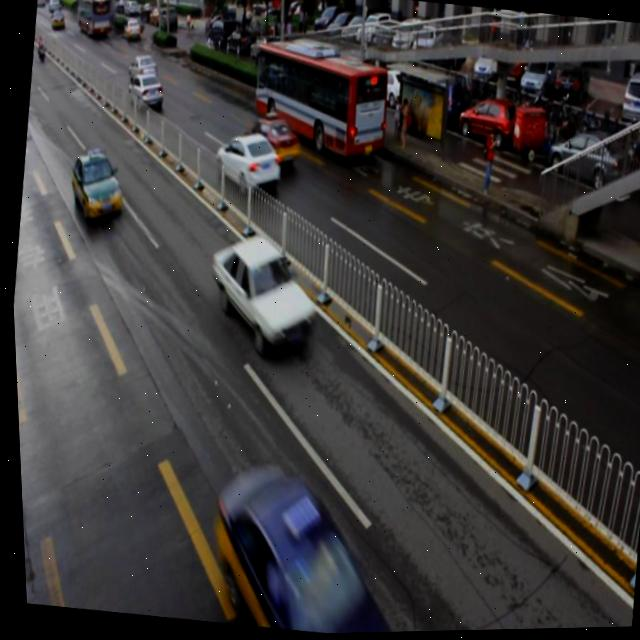car: (197, 457, 416, 637), (197, 230, 320, 358), (64, 144, 128, 225), (210, 128, 282, 196), (236, 112, 301, 172), (123, 69, 166, 116)
van: (246, 38, 393, 165)
